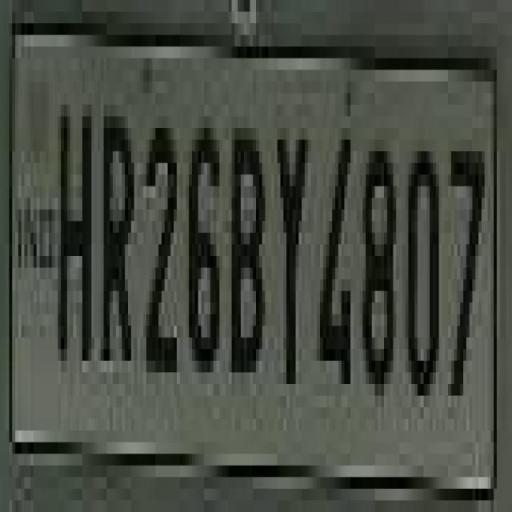number plate: (0, 11, 494, 477)
